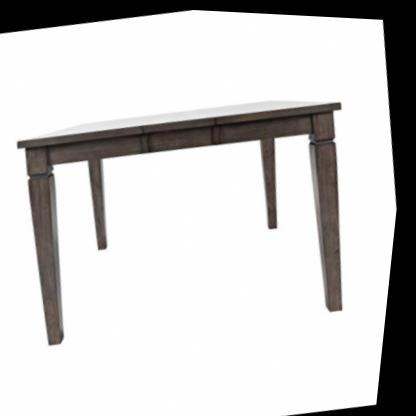Table: (0, 62, 397, 383)
